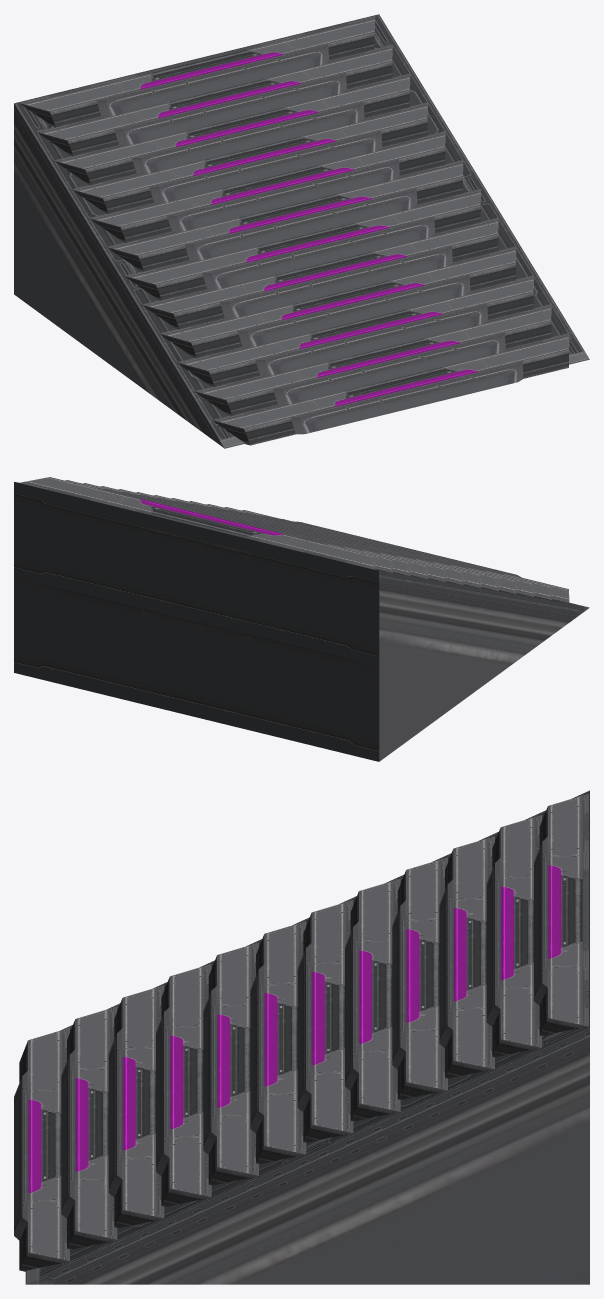
Rendered from Platform_Stairs_4Wide.gltf.
3 renders of one model, top to bottom at view 1: azimuth 30°, elevation 25°; view 2: azimuth 150°, elevation 25°; view 3: azimuth 270°, elevation 25°, orthographic. The views are drawn at different scales.
Visible parts, largest first — view 1: Platform_Stairs_4Wide; view 2: Platform_Stairs_4Wide; view 3: Platform_Stairs_4Wide.
Part boxes in pixels (x1,y1,x2,y2): Platform_Stairs_4Wide: (14,14,589,448); Platform_Stairs_4Wide: (14,477,589,761); Platform_Stairs_4Wide: (14,790,589,1284).
Bounding box in the file's own units: 4 × 2.01 × 4.08.
Materials: 2 (2 with a texture image).
